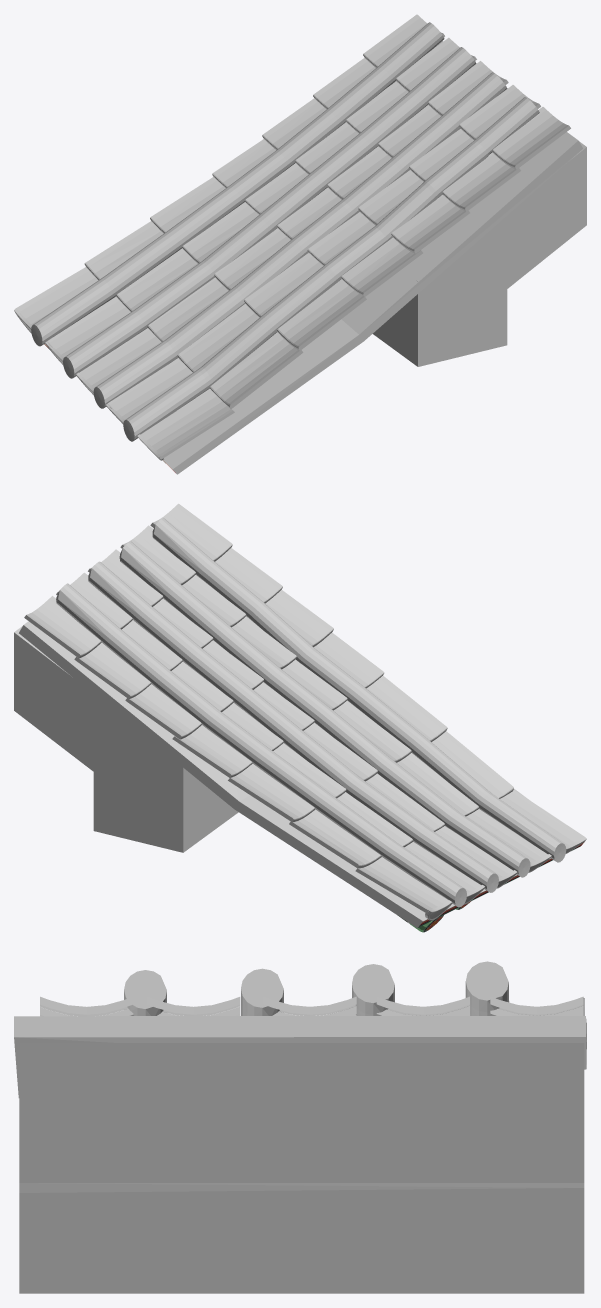
The model's file is SM_Roof_22.fbx.
The picture shows the model from 3 angles, top to bottom: view 1: azimuth 30°, elevation 25°; view 2: azimuth 150°, elevation 25°; view 3: azimuth 270°, elevation 25°; orthographic projection. The views are drawn at different scales.
Visible parts, largest first — view 1: SM_Roof_22_LOD0; view 2: SM_Roof_22_LOD0; view 3: SM_Roof_22_LOD0.
Boxes of the visible parts, x1,y1,x2,y2 form: SM_Roof_22_LOD0: (14, 14, 586, 474); SM_Roof_22_LOD0: (14, 503, 586, 932); SM_Roof_22_LOD0: (14, 961, 586, 1293).
Size of the model in its own units: 333 by 219 by 204.
